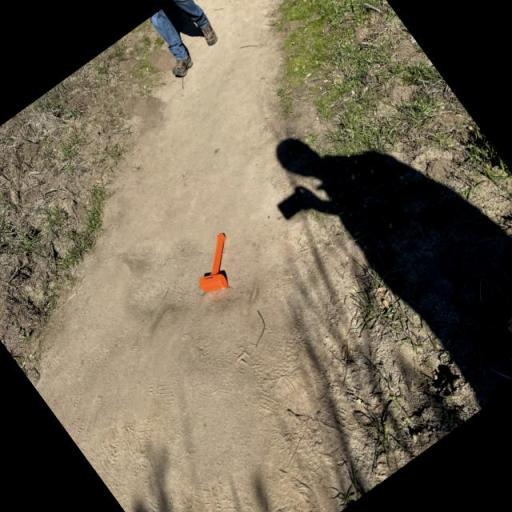mallet: (181, 231, 250, 300)
